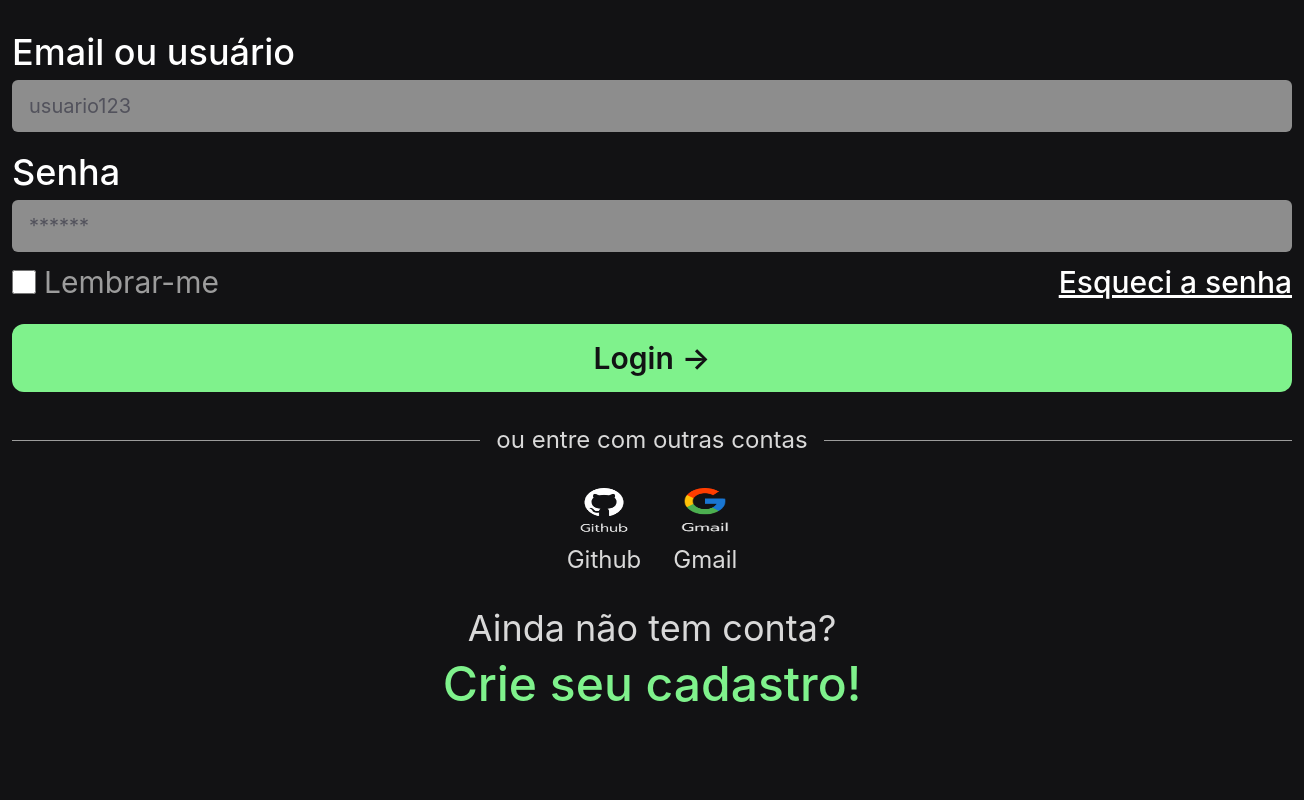
Scenario: LoginForm › mostra erro quando campos obrigatórios estão vazios
What coordinates should you click on to do the following:
click the button "Login →"
I would click on:
 (652, 358)
Its box is [12,324,1292,392].
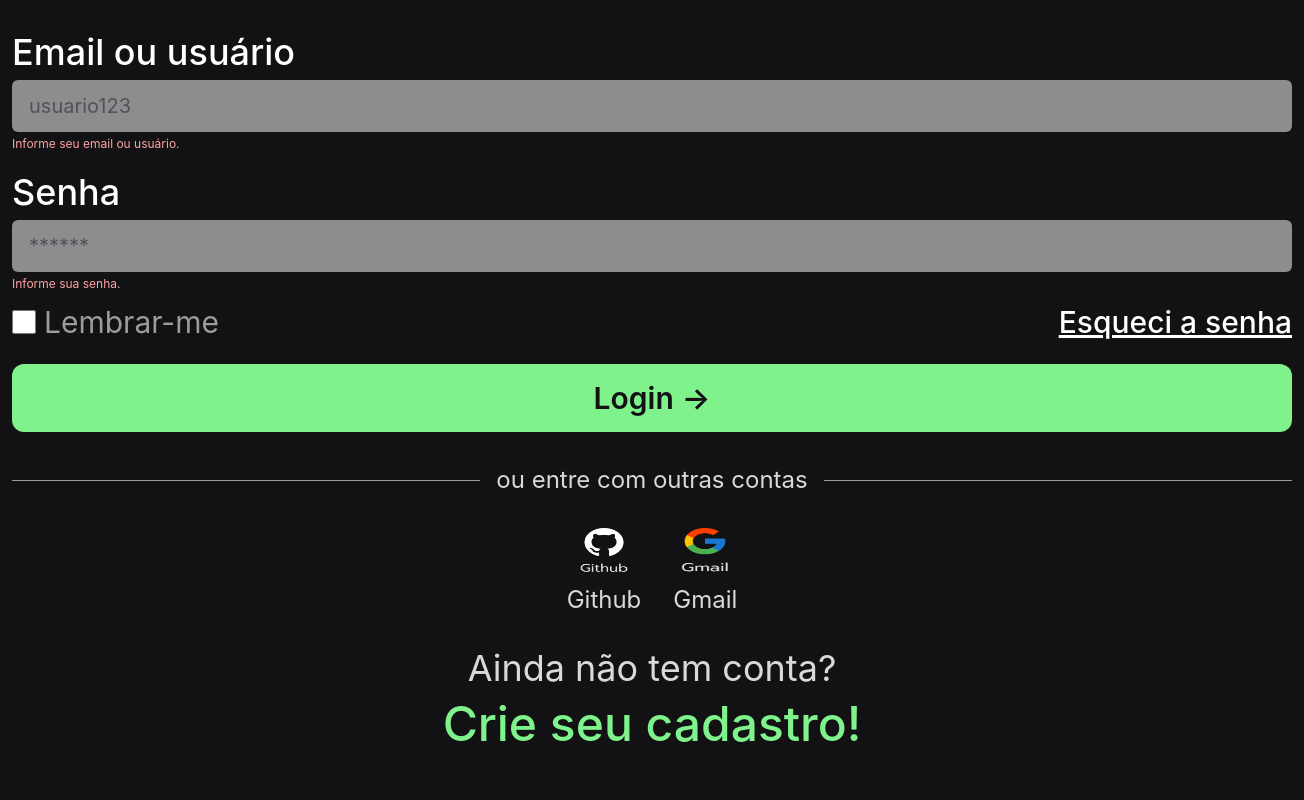
Check: the text "Informe seu email ou usuário." is shown, box [12,136,180,151]
Check: the text "Informe sua senha." is shown, box [12,276,120,291]
